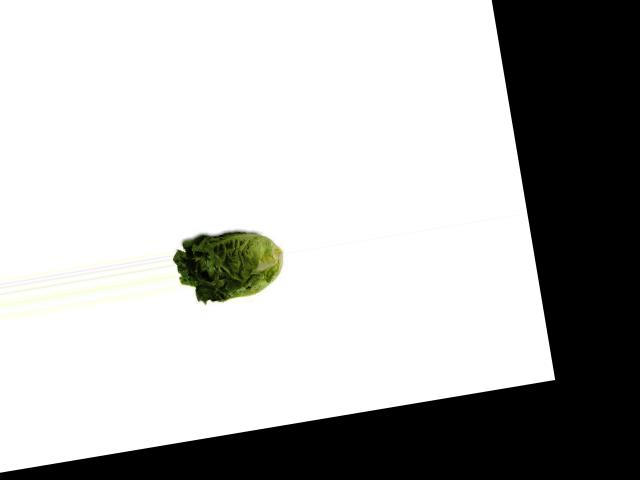lettuce: (172, 218, 290, 314)
